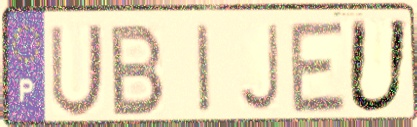B: (109, 20, 168, 119)
E: (287, 17, 349, 117)
I: (194, 21, 214, 117)
J: (236, 21, 282, 115)
U: (344, 16, 413, 117), (48, 20, 107, 120)
